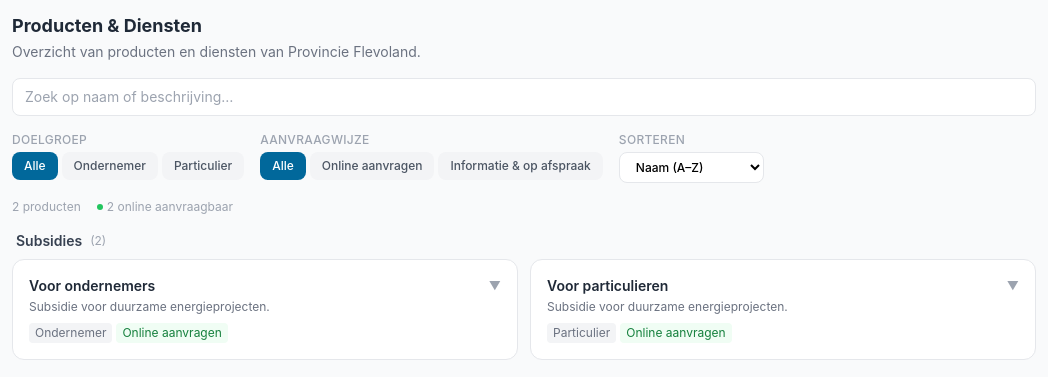
Test: ProductenDienstenCatalogus › the audience filter narrows results to matching items
Expected: the text "Voor ondernemers" is shown, [29,276,155,295]
Step 1. Click the button "Particulier" → [203, 166], box [162,152,244,180]
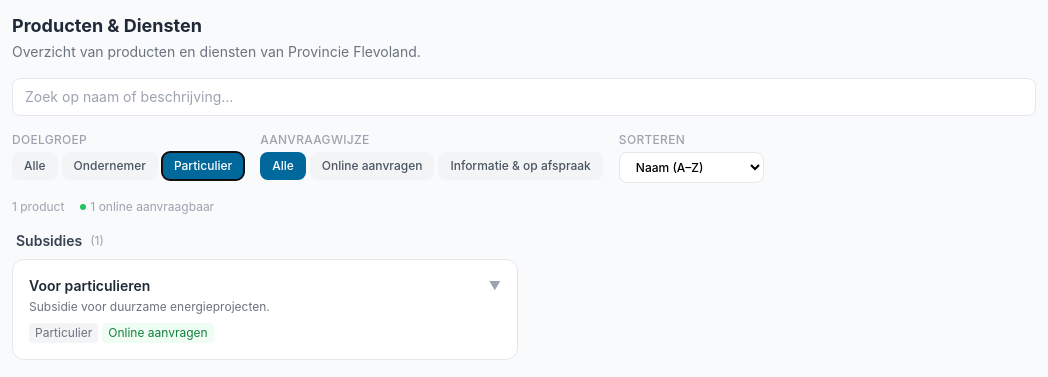
Expected: the text "Voor particulieren" is shown, [29,276,150,295]
Now the button "Voor ondernemers" is gone
